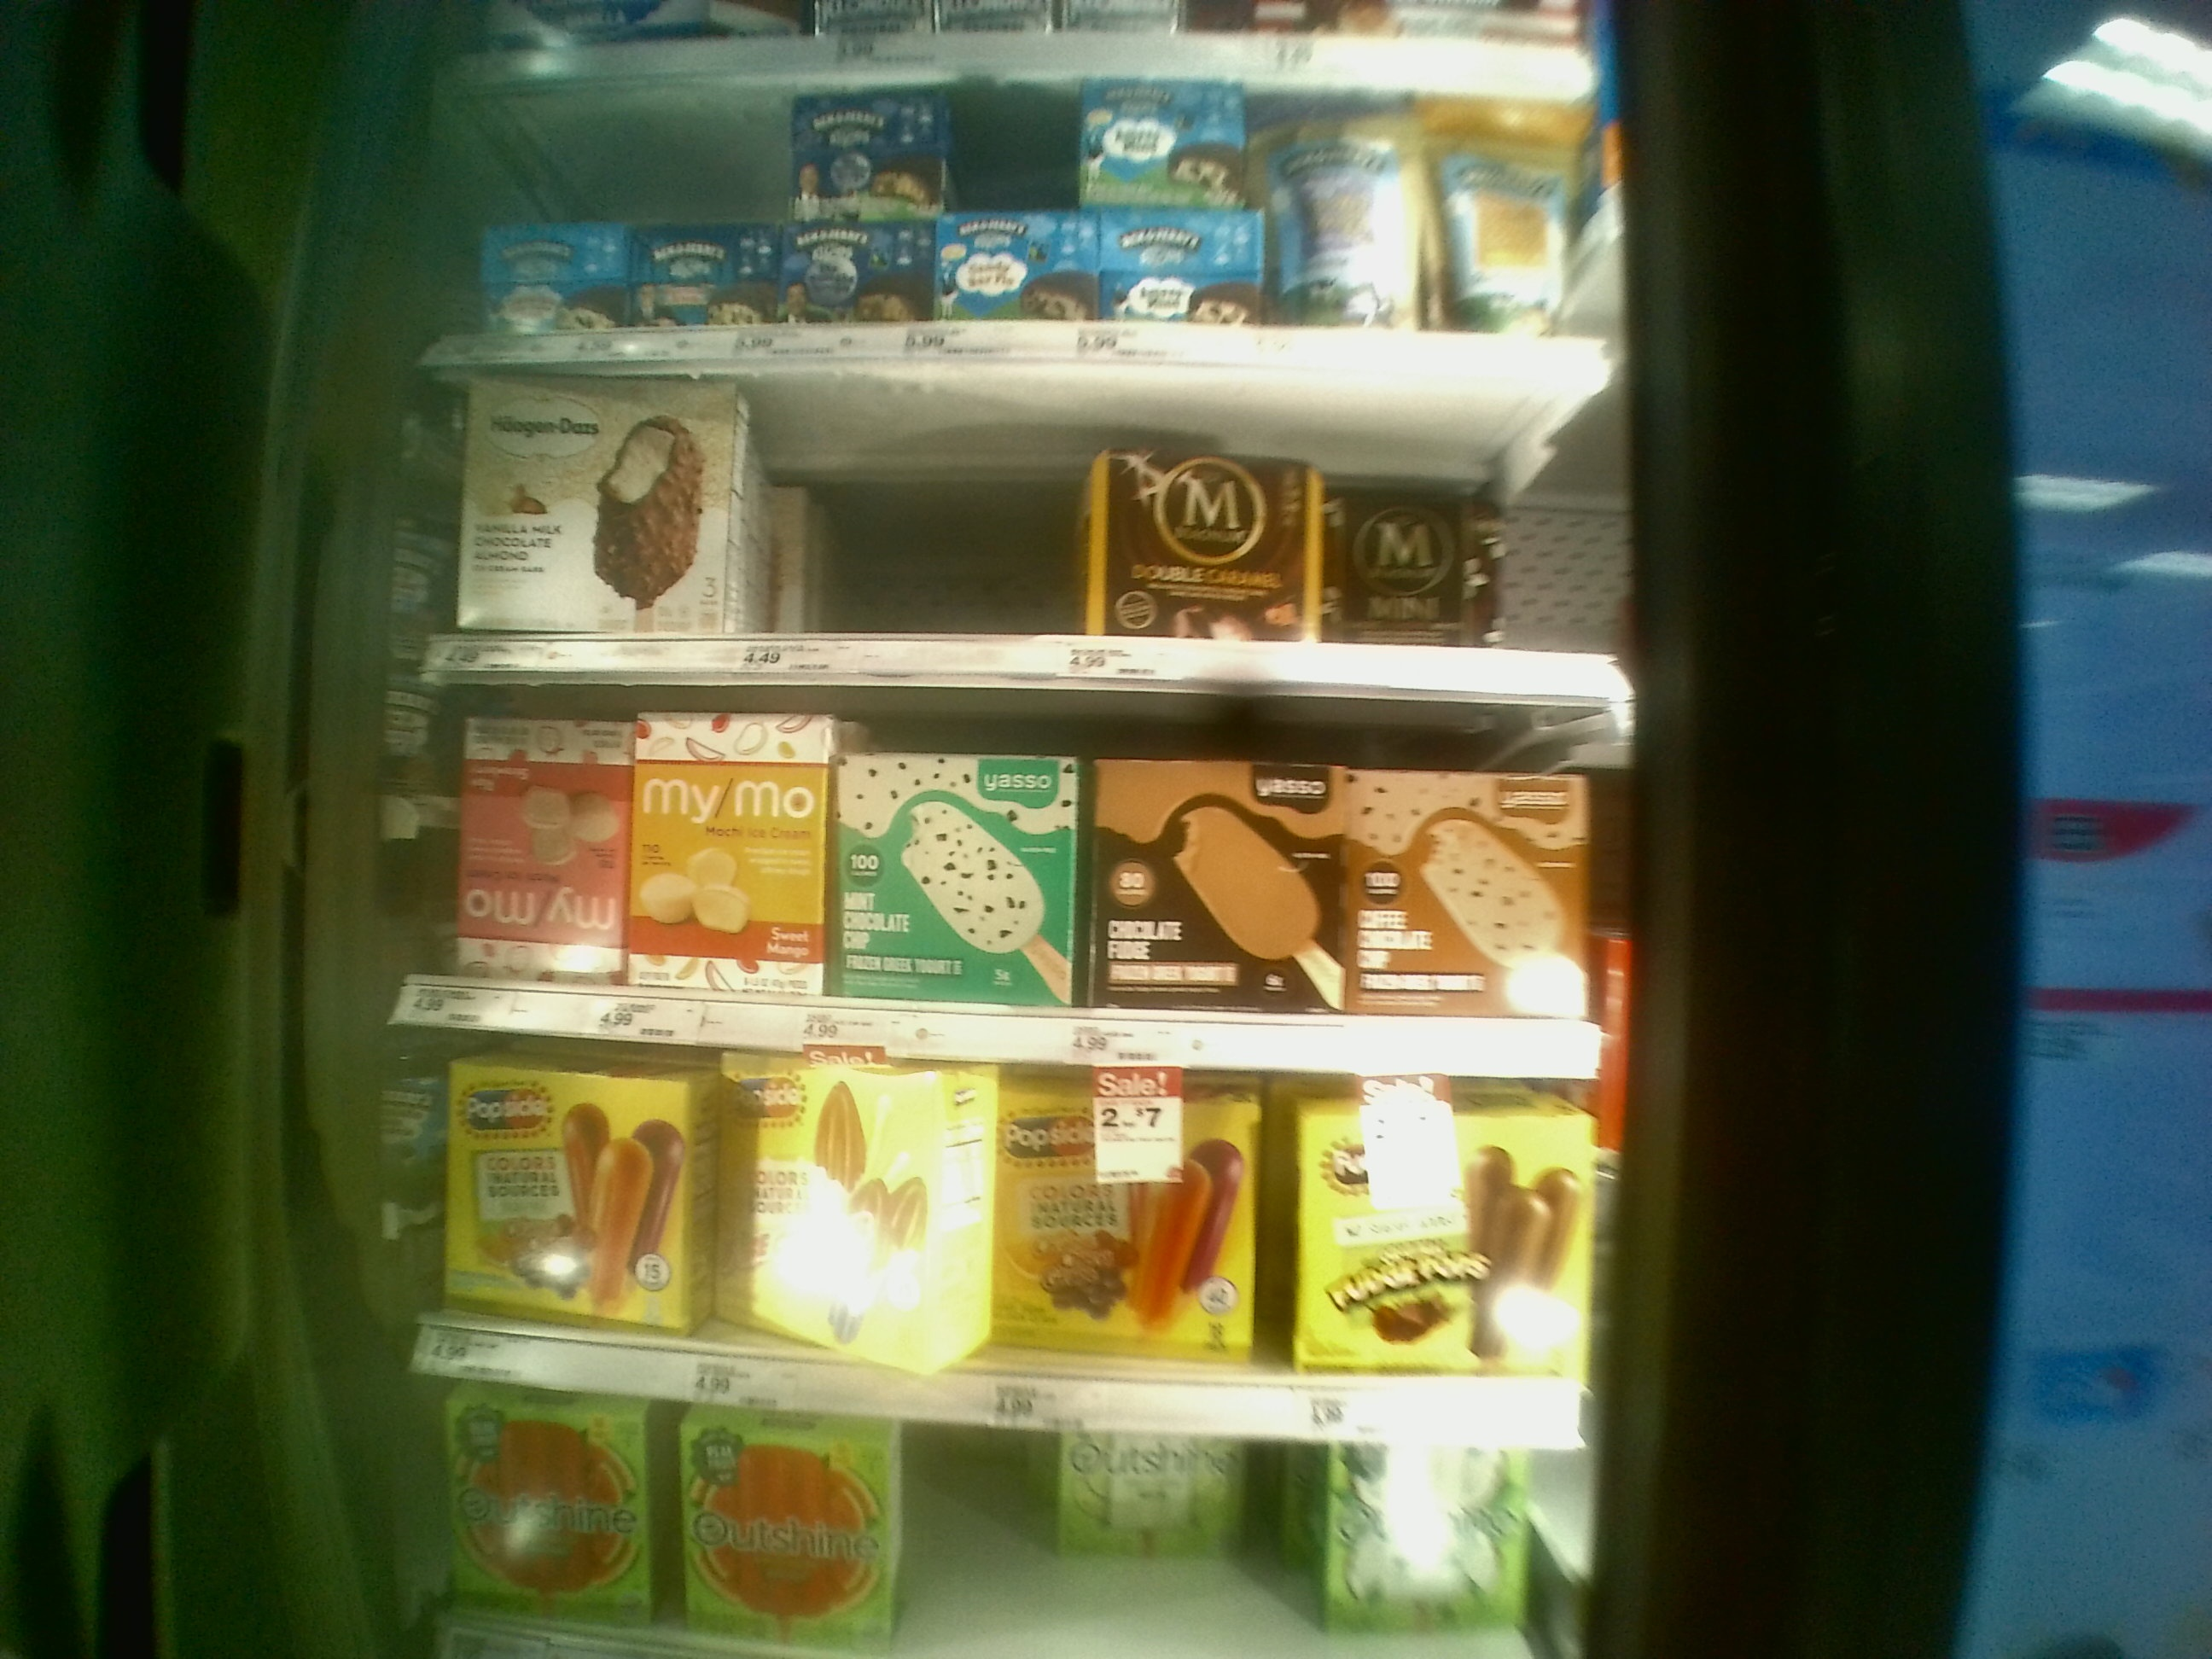shelf: (387, 1065, 1606, 1443), (399, 692, 1627, 1066), (399, 359, 1618, 687), (432, 68, 1594, 366)
